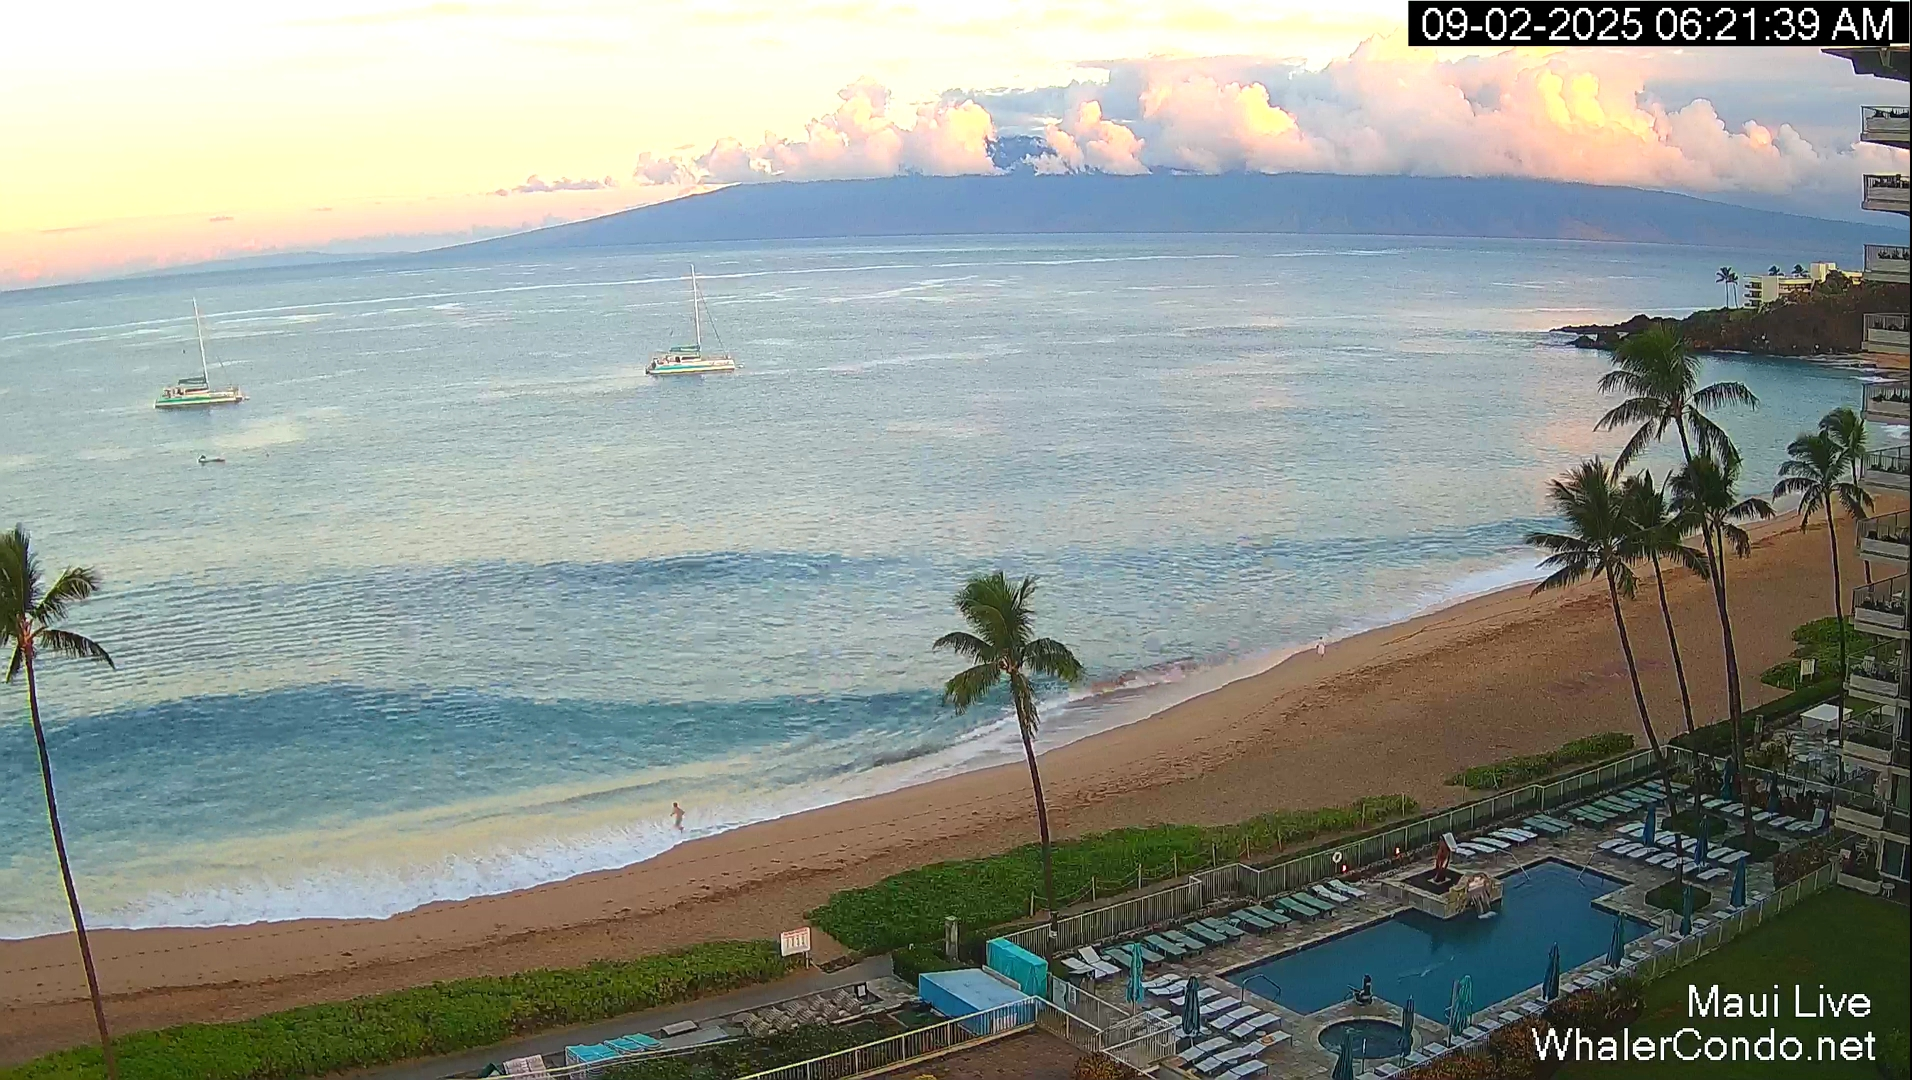boat: (154, 297, 246, 410), (645, 264, 736, 376), (438, 1030, 639, 1080), (154, 376, 246, 409)
person: (669, 802, 686, 831)
